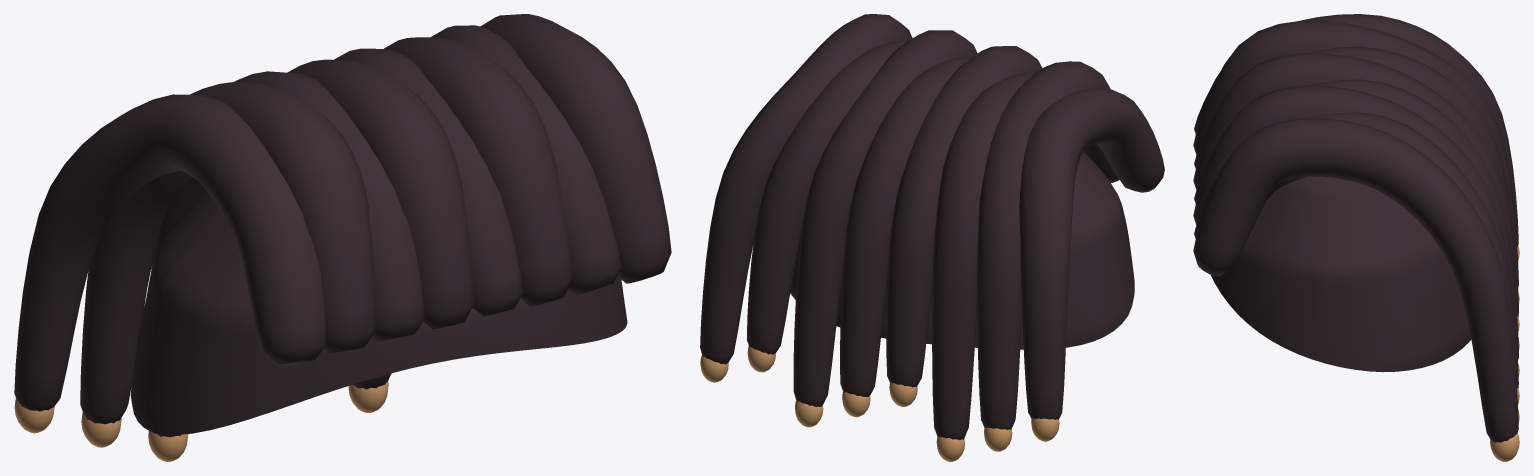
The model's file is studio_dreadlocks_short.glb.
3 views of the same model, side by side, from view 1: azimuth 30°, elevation 25°; view 2: azimuth 150°, elevation 25°; view 3: azimuth 270°, elevation 25° (orthographic). The views are drawn at different scales.
Visible parts, largest first — view 1: dreadlocks; view 2: dreadlocks; view 3: dreadlocks.
Part boxes in pixels (x1,y1,x2,y2): dreadlocks: (14,14,671,461); dreadlocks: (700,14,1164,461); dreadlocks: (1193,14,1519,461).
Bounding box in the file's own units: 0.5189 × 0.4486 × 0.3956.
